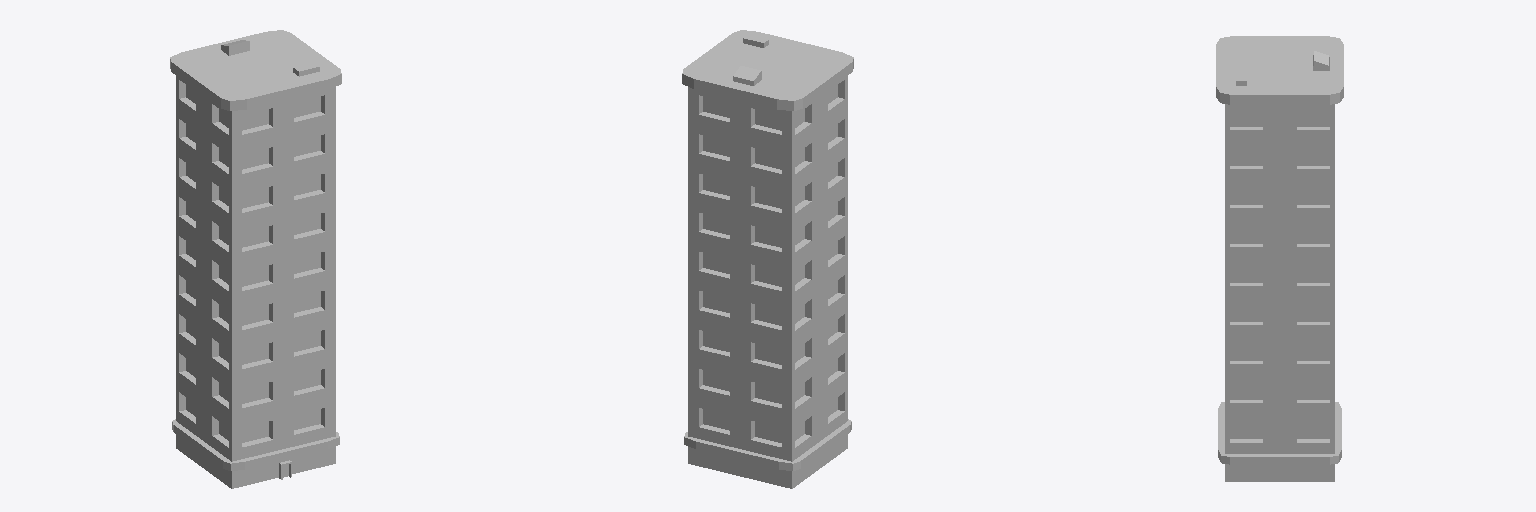
File: Skyscraper 001.obj
3 renders of one model, left to right at view 1: azimuth 30°, elevation 25°; view 2: azimuth 150°, elevation 25°; view 3: azimuth 270°, elevation 25°, orthographic.
Visible parts, largest first — view 1: pCube18; view 2: pCube18; view 3: pCube18.
Boxes of the visible parts, <box> form: pCube18: <box>170,30,341,488</box>; pCube18: <box>682,30,853,488</box>; pCube18: <box>1216,36,1343,481</box>.
Bounding box in the file's own units: 0.8447 × 2.71 × 0.7886.